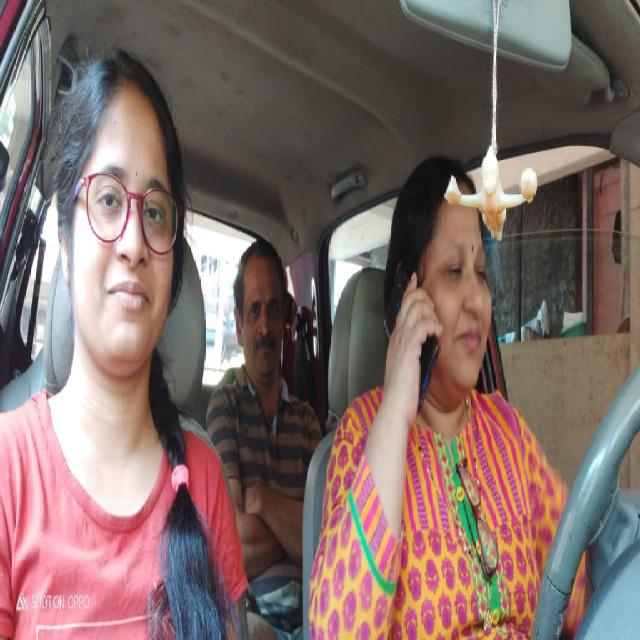mobile: (382, 280, 441, 406)
person: (47, 68, 184, 378), (389, 161, 496, 403), (233, 232, 290, 378)
